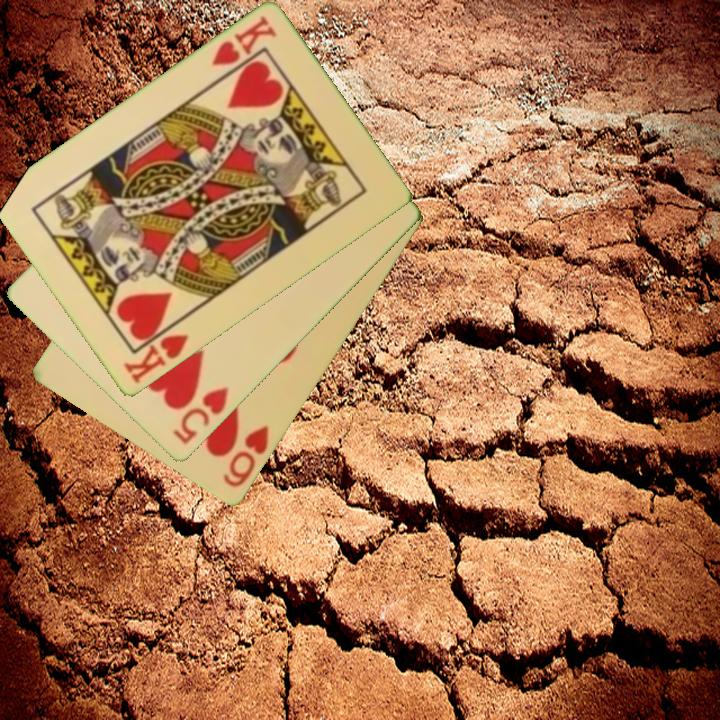5h: (169, 384, 232, 448)
6h: (219, 422, 272, 491)
Kh: (119, 317, 191, 387), (207, 12, 280, 70)
